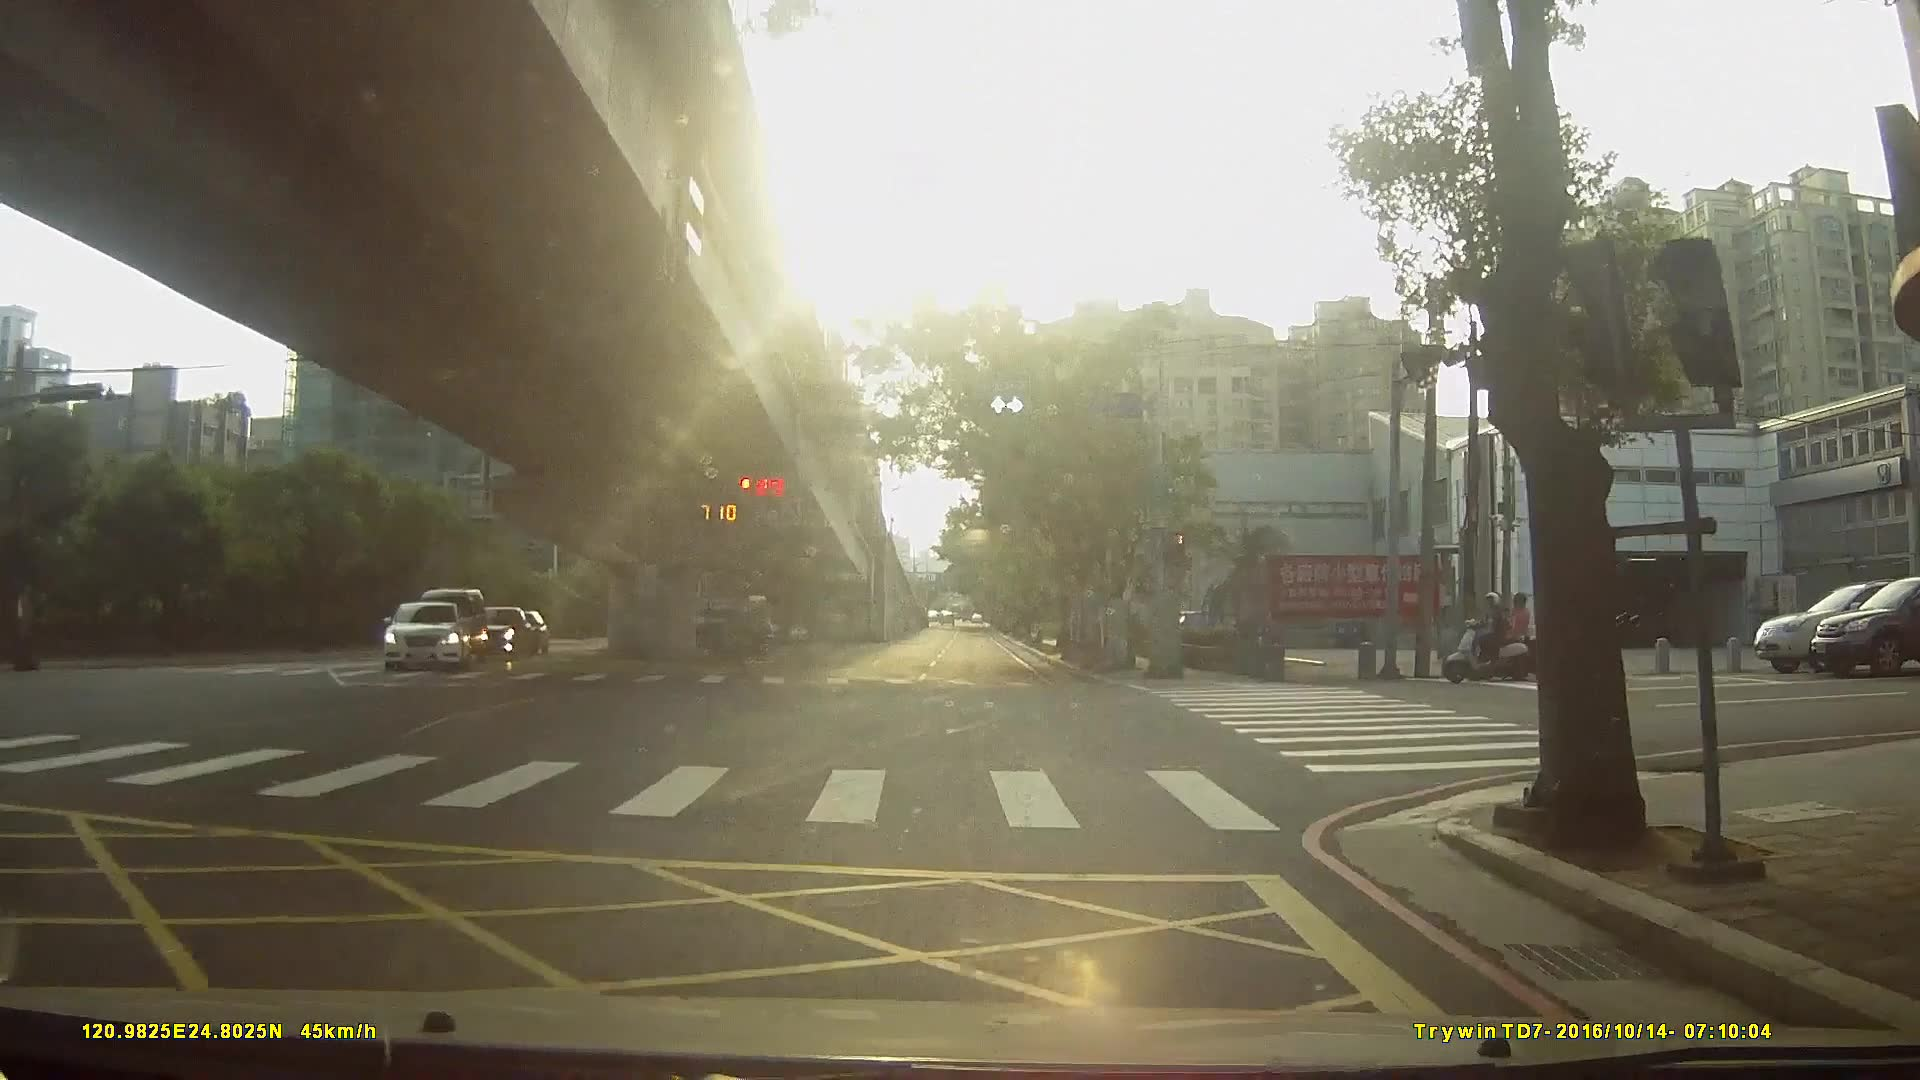rider: (1446, 589, 1531, 681)
vehicle: (1761, 578, 1920, 675), (1818, 575, 1920, 677), (376, 596, 463, 669), (668, 601, 771, 661), (462, 602, 532, 654)
